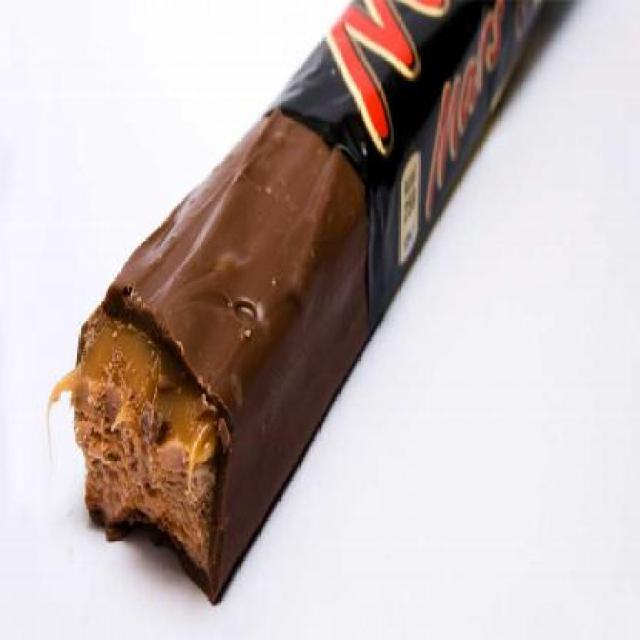Chocolate bar packaged: (60, 100, 380, 638)
